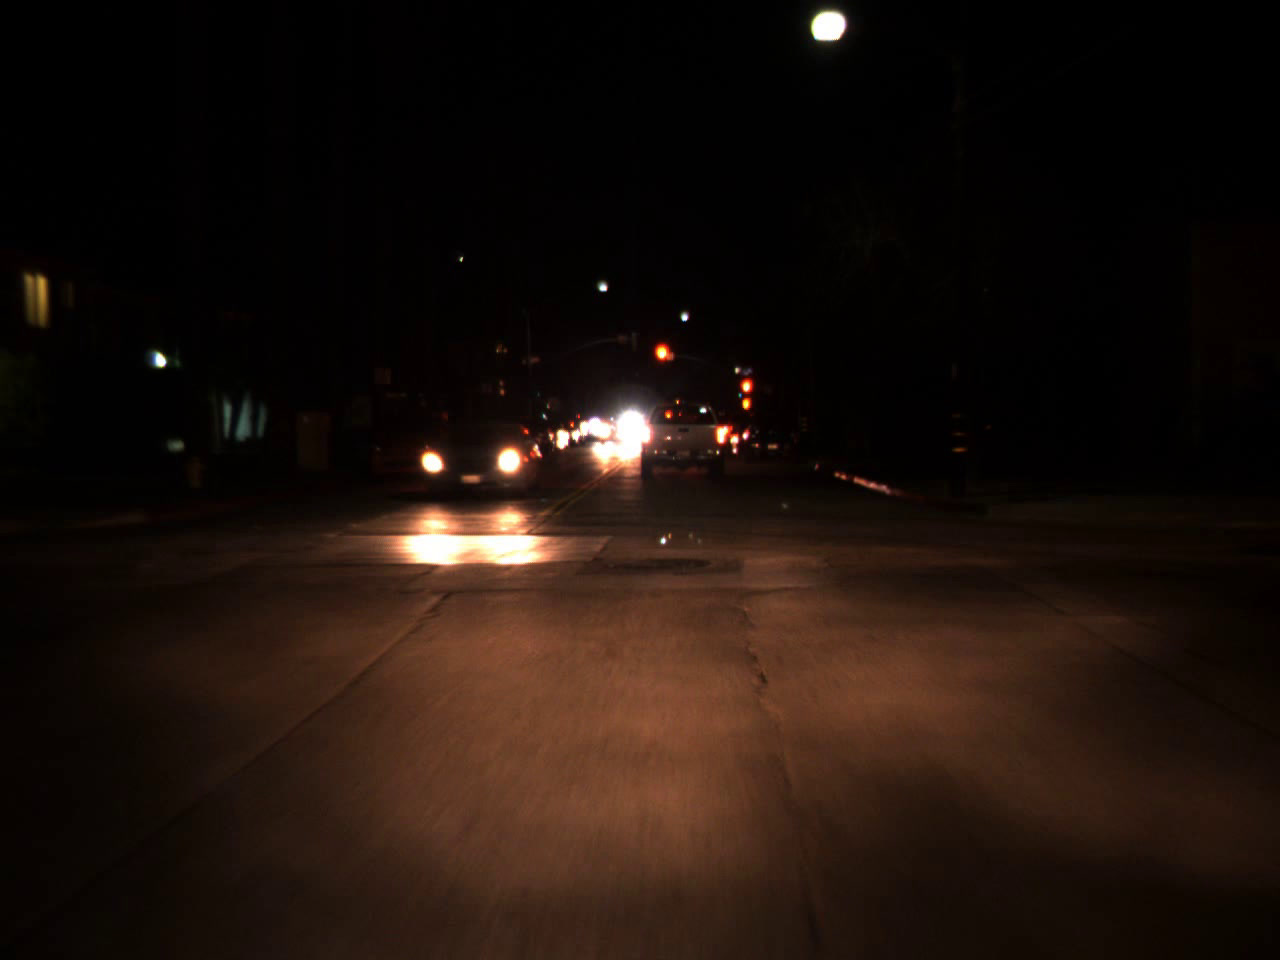stop: (652, 340, 676, 383), (739, 377, 754, 409)
